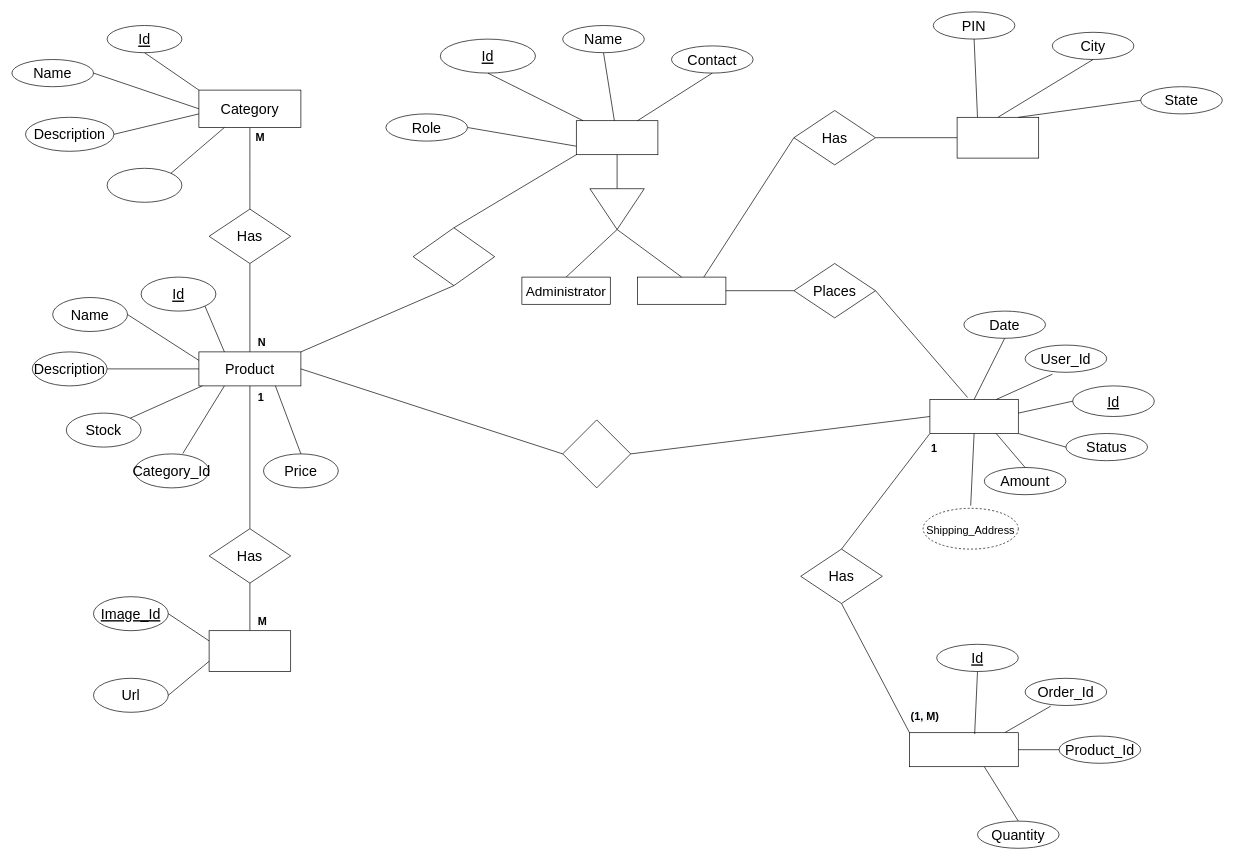
Image size: 1234x860. Some labels were removed from this diagram. Each missing label, with the centre of its shape:
"Address" goes at [997,137].
"Image" goes at [249,651].
"Includes" goes at [596,453].
"IS A" goes at [616,209].
"Items" goes at [963,749].
"Order" goes at [973,416].
"Parent_Id" goes at [144,185].
"Searches" goes at [453,256].
"Shopper" goes at [681,290].
"User" goes at [617,137].
